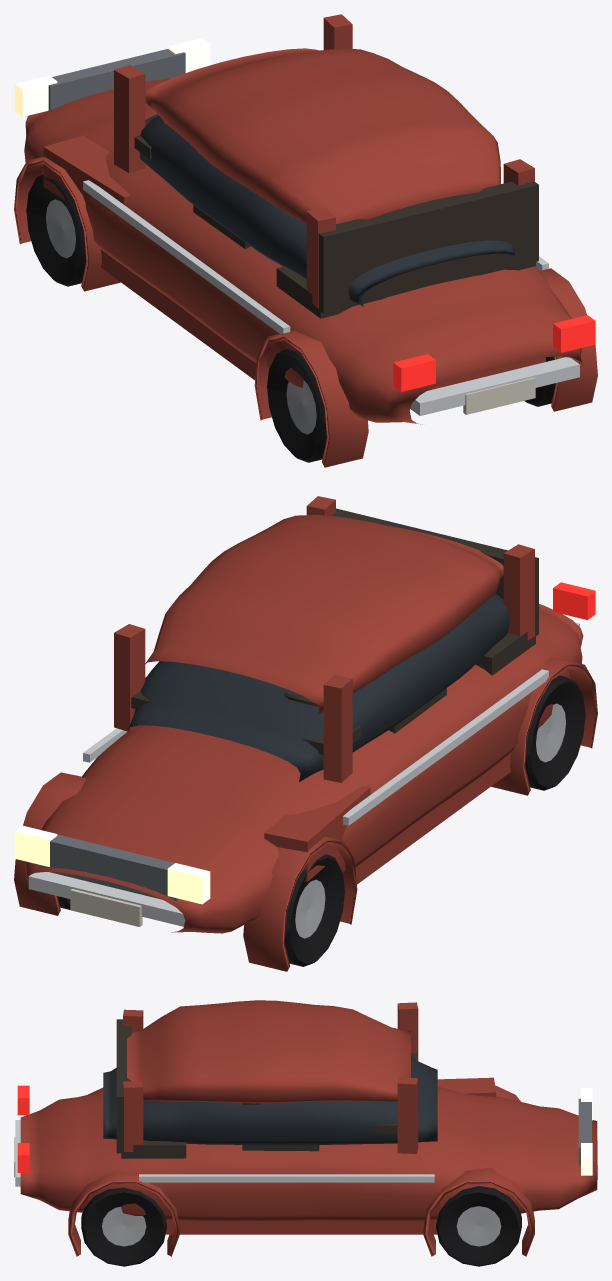
Rendered from vehicle_buggy.glb.
The picture shows the model from 3 angles, top to bottom: view 1: azimuth 30°, elevation 25°; view 2: azimuth 150°, elevation 25°; view 3: azimuth 270°, elevation 25°; orthographic projection. The views are drawn at different scales.
Visible parts, largest first — view 1: vehicle_buggy_body, vehicle_buggy_roof, vehicle_buggy_interior, vehicle_buggy_glass, vehicle_buggy_arches, vehicle_buggy_sills, vehicle_buggy_trim, vehicle_buggy_pillars, wheel_rl_tyre, wheel_fl_tyre, vehicle_buggy_grille, vehicle_buggy_lamps_rear (+4 smaller); view 2: vehicle_buggy_body, vehicle_buggy_roof, vehicle_buggy_glass, vehicle_buggy_arches, vehicle_buggy_pillars, vehicle_buggy_sills, vehicle_buggy_trim, vehicle_buggy_grille, wheel_rl_tyre, vehicle_buggy_interior, wheel_fl_tyre, vehicle_buggy_lamps (+4 smaller); view 3: vehicle_buggy_body, vehicle_buggy_roof, vehicle_buggy_glass, vehicle_buggy_sills, vehicle_buggy_arches, vehicle_buggy_pillars, wheel_fr_tyre, wheel_rr_tyre, vehicle_buggy_interior, vehicle_buggy_trim, wheel_fr_rim, wheel_rr_rim (+3 smaller).
Part boxes in pixels (bbox=[...]): vehicle_buggy_body: bbox=[24, 78, 582, 424]; vehicle_buggy_roof: bbox=[145, 48, 500, 224]; vehicle_buggy_interior: bbox=[134, 121, 538, 318]; vehicle_buggy_glass: bbox=[139, 114, 515, 306]; vehicle_buggy_arches: bbox=[14, 156, 597, 467]; vehicle_buggy_sills: bbox=[43, 135, 545, 390]; vehicle_buggy_trim: bbox=[83, 180, 579, 415]; vehicle_buggy_pillars: bbox=[114, 14, 534, 308]; wheel_rl_tyre: bbox=[267, 349, 326, 462]; wheel_fl_tyre: bbox=[26, 174, 86, 286]; vehicle_buggy_grille: bbox=[48, 49, 185, 110]; vehicle_buggy_lamps_rear: bbox=[393, 315, 595, 391]; vehicle_buggy_body: bbox=[24, 604, 583, 933]; vehicle_buggy_roof: bbox=[145, 514, 503, 715]; vehicle_buggy_glass: bbox=[127, 594, 509, 781]; vehicle_buggy_arches: bbox=[14, 656, 597, 971]; vehicle_buggy_pillars: bbox=[114, 496, 534, 782]; vehicle_buggy_sills: bbox=[264, 753, 510, 884]; vehicle_buggy_trim: bbox=[28, 622, 579, 926]; vehicle_buggy_grille: bbox=[41, 834, 178, 901]; wheel_rl_tyre: bbox=[525, 675, 585, 790]; vehicle_buggy_interior: bbox=[131, 508, 538, 754]; wheel_fl_tyre: bbox=[285, 854, 344, 966]; vehicle_buggy_lamps: bbox=[14, 825, 210, 904]; vehicle_buggy_body: bbox=[20, 1087, 597, 1221]; vehicle_buggy_roof: bbox=[127, 1000, 410, 1103]; vehicle_buggy_glass: bbox=[103, 1056, 437, 1144]; vehicle_buggy_sills: bbox=[165, 1077, 496, 1234]; vehicle_buggy_arches: bbox=[68, 1085, 534, 1256]; vehicle_buggy_pillars: bbox=[123, 1002, 418, 1153]; wheel_fr_tyre: bbox=[436, 1186, 521, 1266]; wheel_rr_tyre: bbox=[81, 1187, 166, 1266]; vehicle_buggy_interior: bbox=[116, 1019, 416, 1158]; vehicle_buggy_trim: bbox=[15, 1120, 434, 1186]; wheel_fr_rim: bbox=[456, 1206, 501, 1246]; wheel_rr_rim: bbox=[102, 1206, 146, 1246].
Size of the model in its own units: 1.54 by 1.45 by 3.95.
